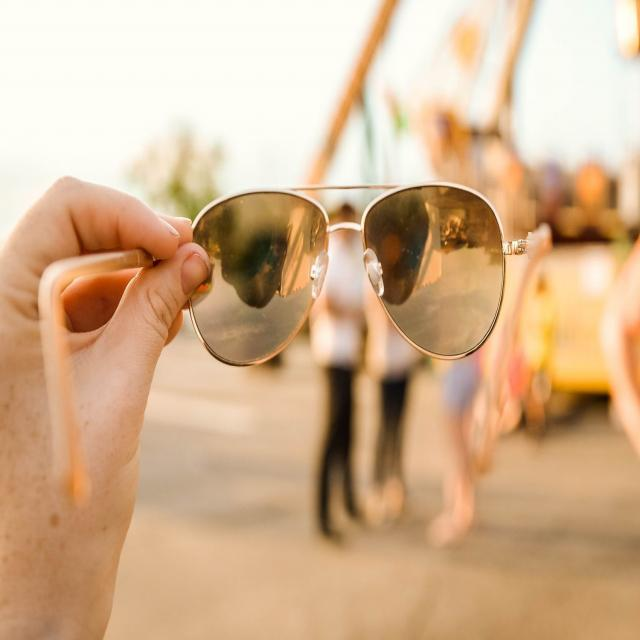glasses: (23, 148, 564, 562)
